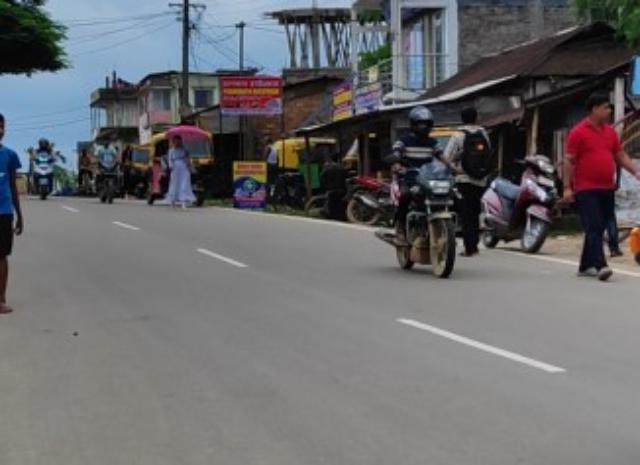licensePlate: (423, 197, 457, 209)
motorcycle: (377, 101, 466, 278)
withHelmet: (404, 106, 441, 137)
